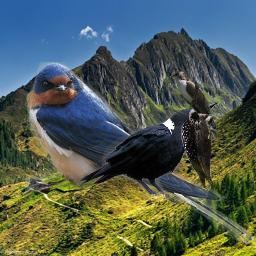Crow: (79, 109, 212, 205)
Cuckoo: (170, 71, 222, 140)
Swallow: (25, 62, 256, 245)
Woodpecker: (178, 98, 221, 193)
